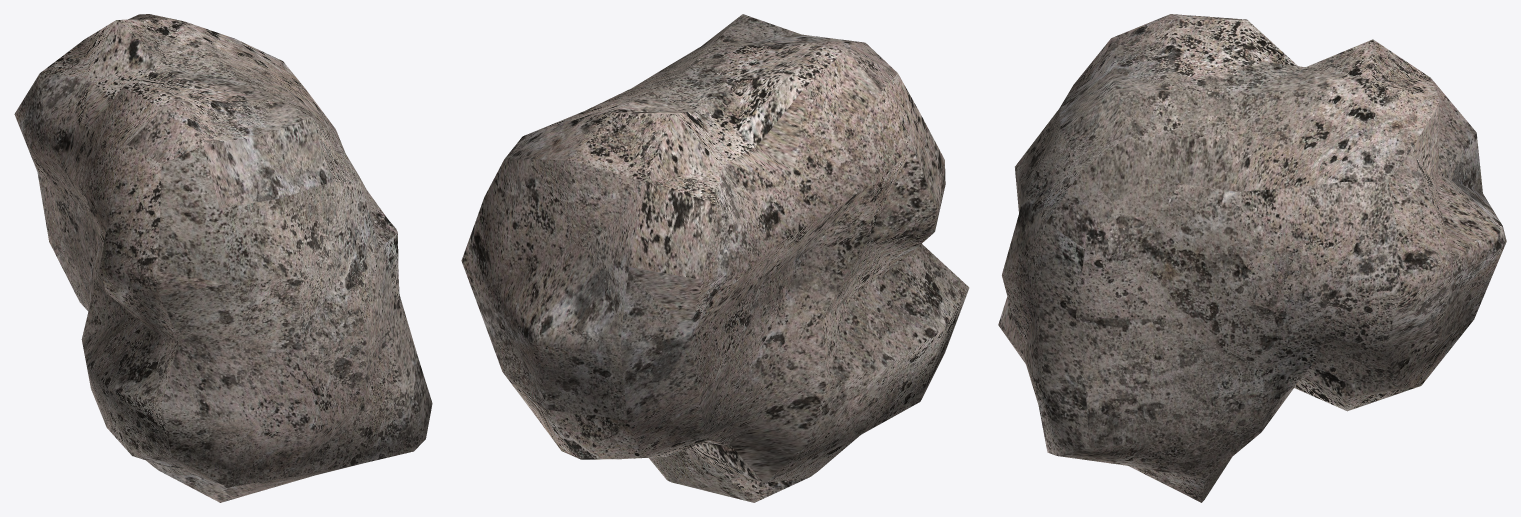
Rendered from Rock_10x10_A.FBX.
The picture shows the model from 3 angles, left to right: view 1: azimuth 30°, elevation 25°; view 2: azimuth 150°, elevation 25°; view 3: azimuth 270°, elevation 25°; orthographic projection. The views are drawn at different scales.
Parts seen in each view (by area): view 1: Rock_10x10_A; view 2: Rock_10x10_A; view 3: Rock_10x10_A.
Part boxes in pixels (x1,y1,x2,y2): Rock_10x10_A: [14, 14, 432, 502]; Rock_10x10_A: [461, 14, 969, 502]; Rock_10x10_A: [998, 14, 1506, 502].
Size of the model in its own units: 8.34 by 10.72 by 11.69.
Materials: 1 (1 with a texture image).
